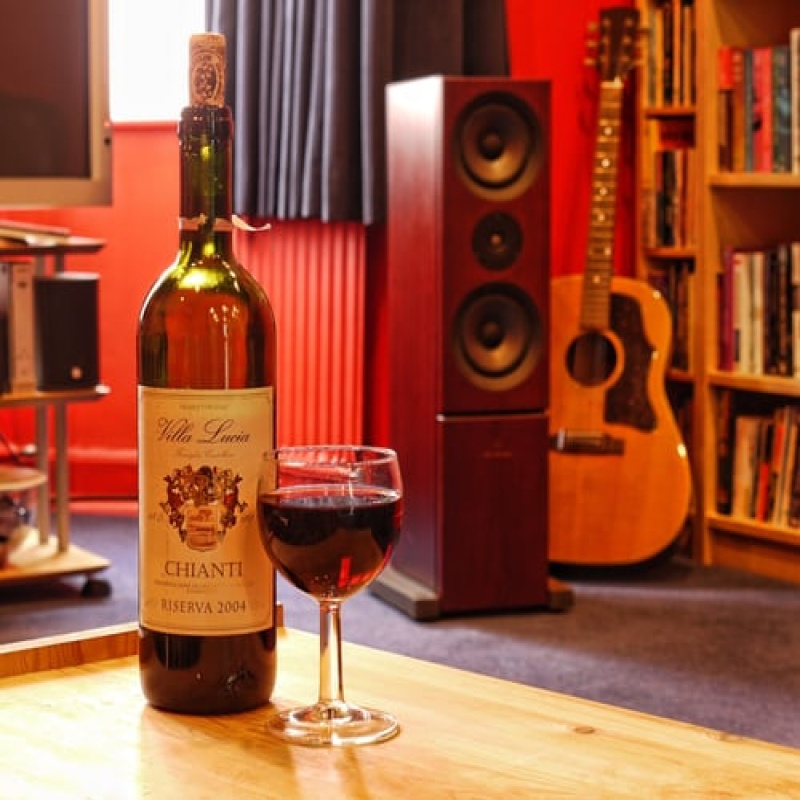wine: (134, 107, 289, 722)
